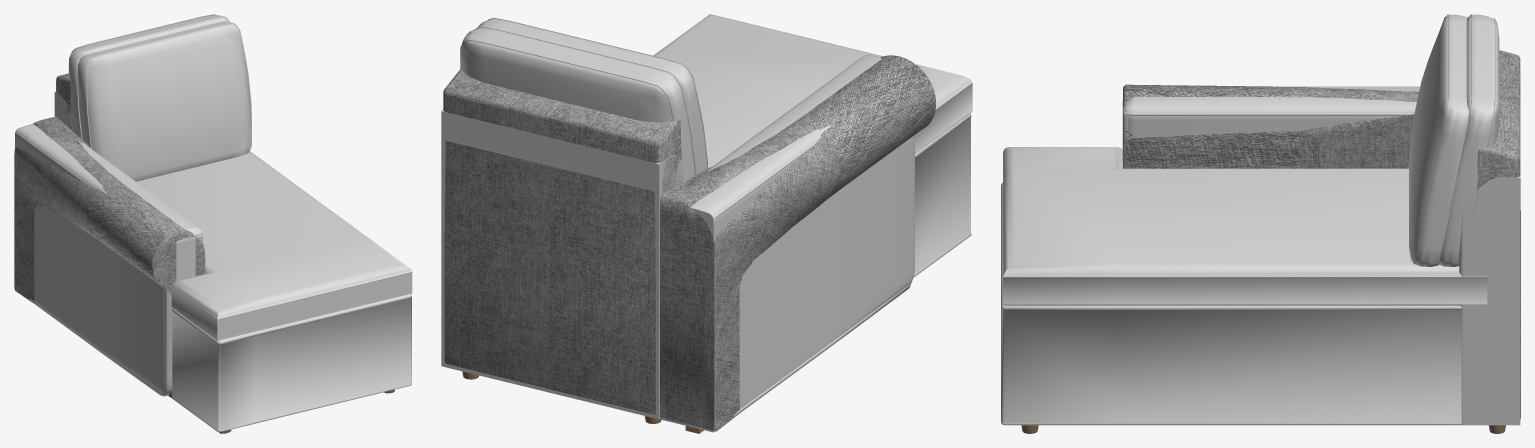
File: chaiseR.gltf
3 views of the same model, side by side, from view 1: azimuth 30°, elevation 25°; view 2: azimuth 150°, elevation 25°; view 3: azimuth 270°, elevation 25° (orthographic). The views are drawn at different scales.
Visible parts, largest first — view 1: ChaiseSeatR, pillow (×2), BottomR, c_armrestR, ArmrestR, Sweep (×2), back.1, Back2; view 2: Back2, ArmrestR, c_armrestR, ChaiseSeatR, pillow (×2), back.1, BottomR, Sweep; view 3: ChaiseSeatR, BottomR, pillow (×2), ArmrestR, back.1, c_armrestR, Back2.
Boxes of the visible parts, x1,y1,x2,y2 form: ChaiseSeatR: [136, 151, 412, 340]; pillow (×2): [69, 14, 251, 181]; BottomR: [172, 294, 411, 431]; c_armrestR: [15, 124, 202, 396]; ArmrestR: [14, 116, 205, 397]; Sweep (×2): [68, 14, 251, 152]; back.1: [54, 91, 76, 134]; Back2: [56, 73, 71, 127]; Back2: [443, 69, 682, 414]; ArmrestR: [660, 55, 935, 431]; c_armrestR: [660, 54, 914, 432]; ChaiseSeatR: [653, 14, 972, 168]; pillow (×2): [461, 18, 707, 178]; back.1: [441, 109, 689, 419]; BottomR: [913, 113, 971, 277]; Sweep: [460, 26, 696, 181]; ChaiseSeatR: [1003, 147, 1487, 305]; BottomR: [1001, 182, 1462, 425]; pillow (×2): [1409, 14, 1499, 266]; ArmrestR: [1123, 84, 1418, 168]; back.1: [1459, 75, 1520, 425]; c_armrestR: [1122, 86, 1419, 160]; Back2: [1476, 50, 1520, 419].
Size of the model in its own units: 0.8133 by 0.9082 by 1.3.
Materials: 4 (1 with a texture image).
